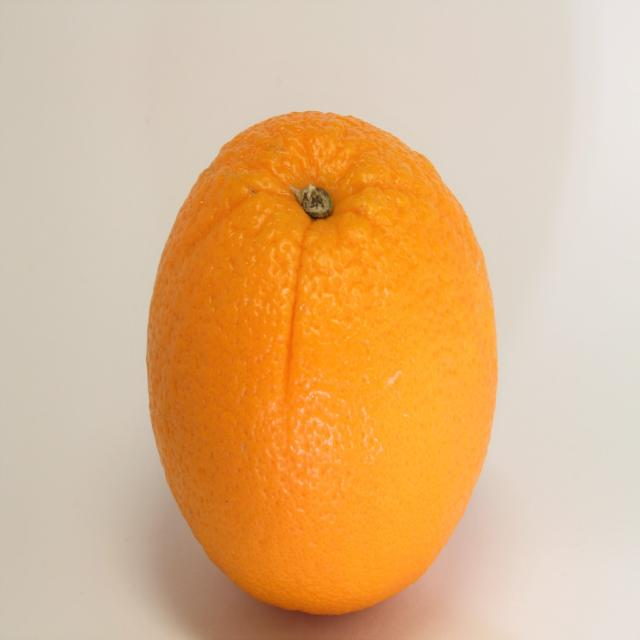Orange: (141, 113, 503, 618)
